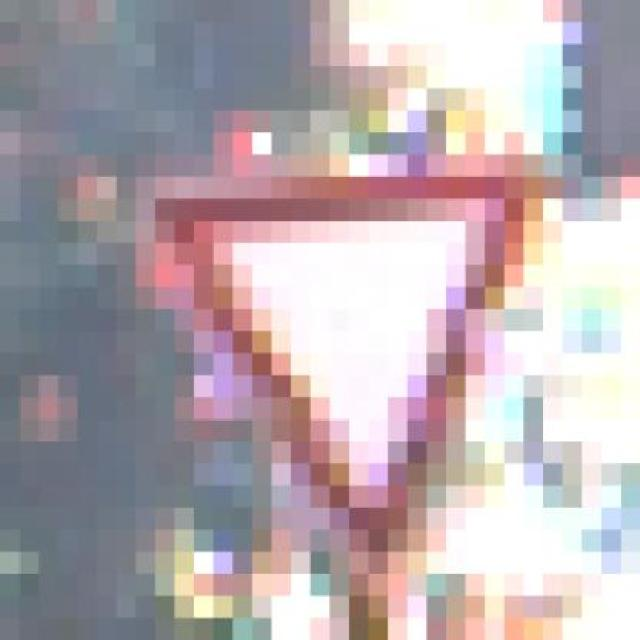Give Way: (77, 88, 543, 574)
